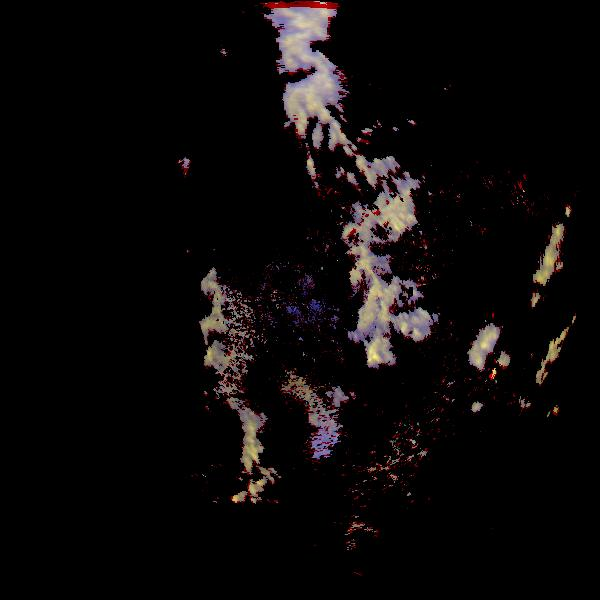roost: (233, 368, 344, 479)
